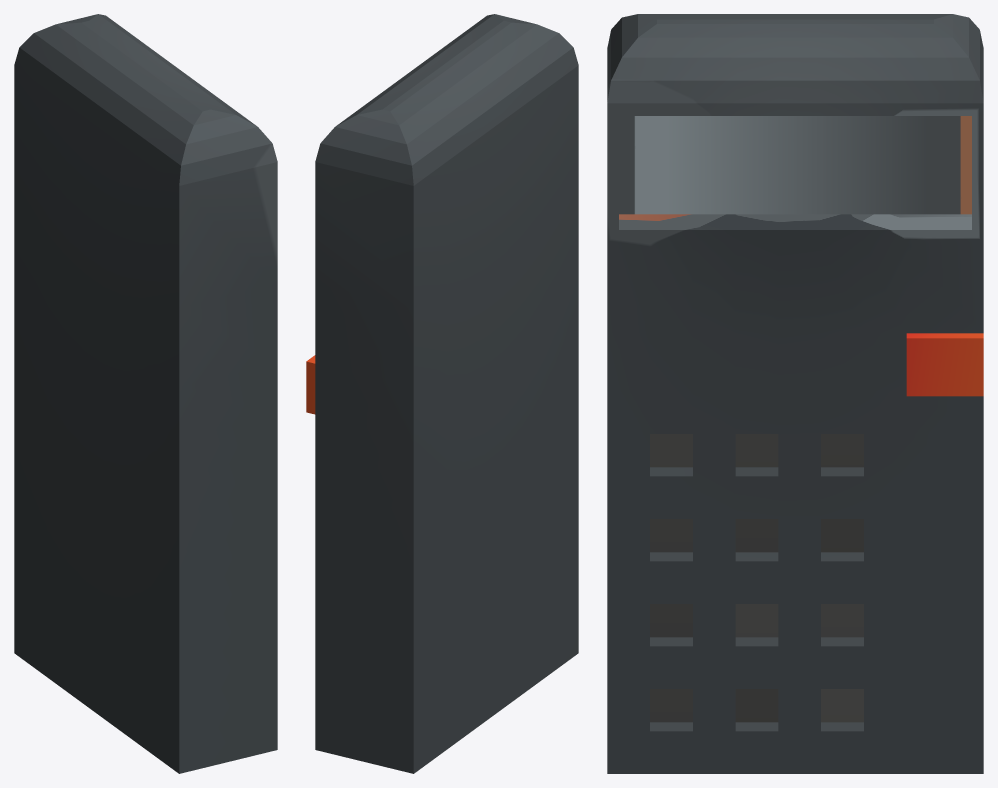
File: VOICE RECPDER.fbx
3 renders of one model, left to right at view 1: azimuth 30°, elevation 25°; view 2: azimuth 150°, elevation 25°; view 3: azimuth 270°, elevation 25°, orthographic. The views are drawn at different scales.
Visible parts, largest first — view 1: Cube; view 2: Cube; view 3: Cube.
Part boxes in pixels (<box>): Cube: <box>14,14,277,773</box>; Cube: <box>306,14,578,773</box>; Cube: <box>607,14,983,773</box>.
Bounding box in the file's own units: 35.41 × 200 × 94.12.
